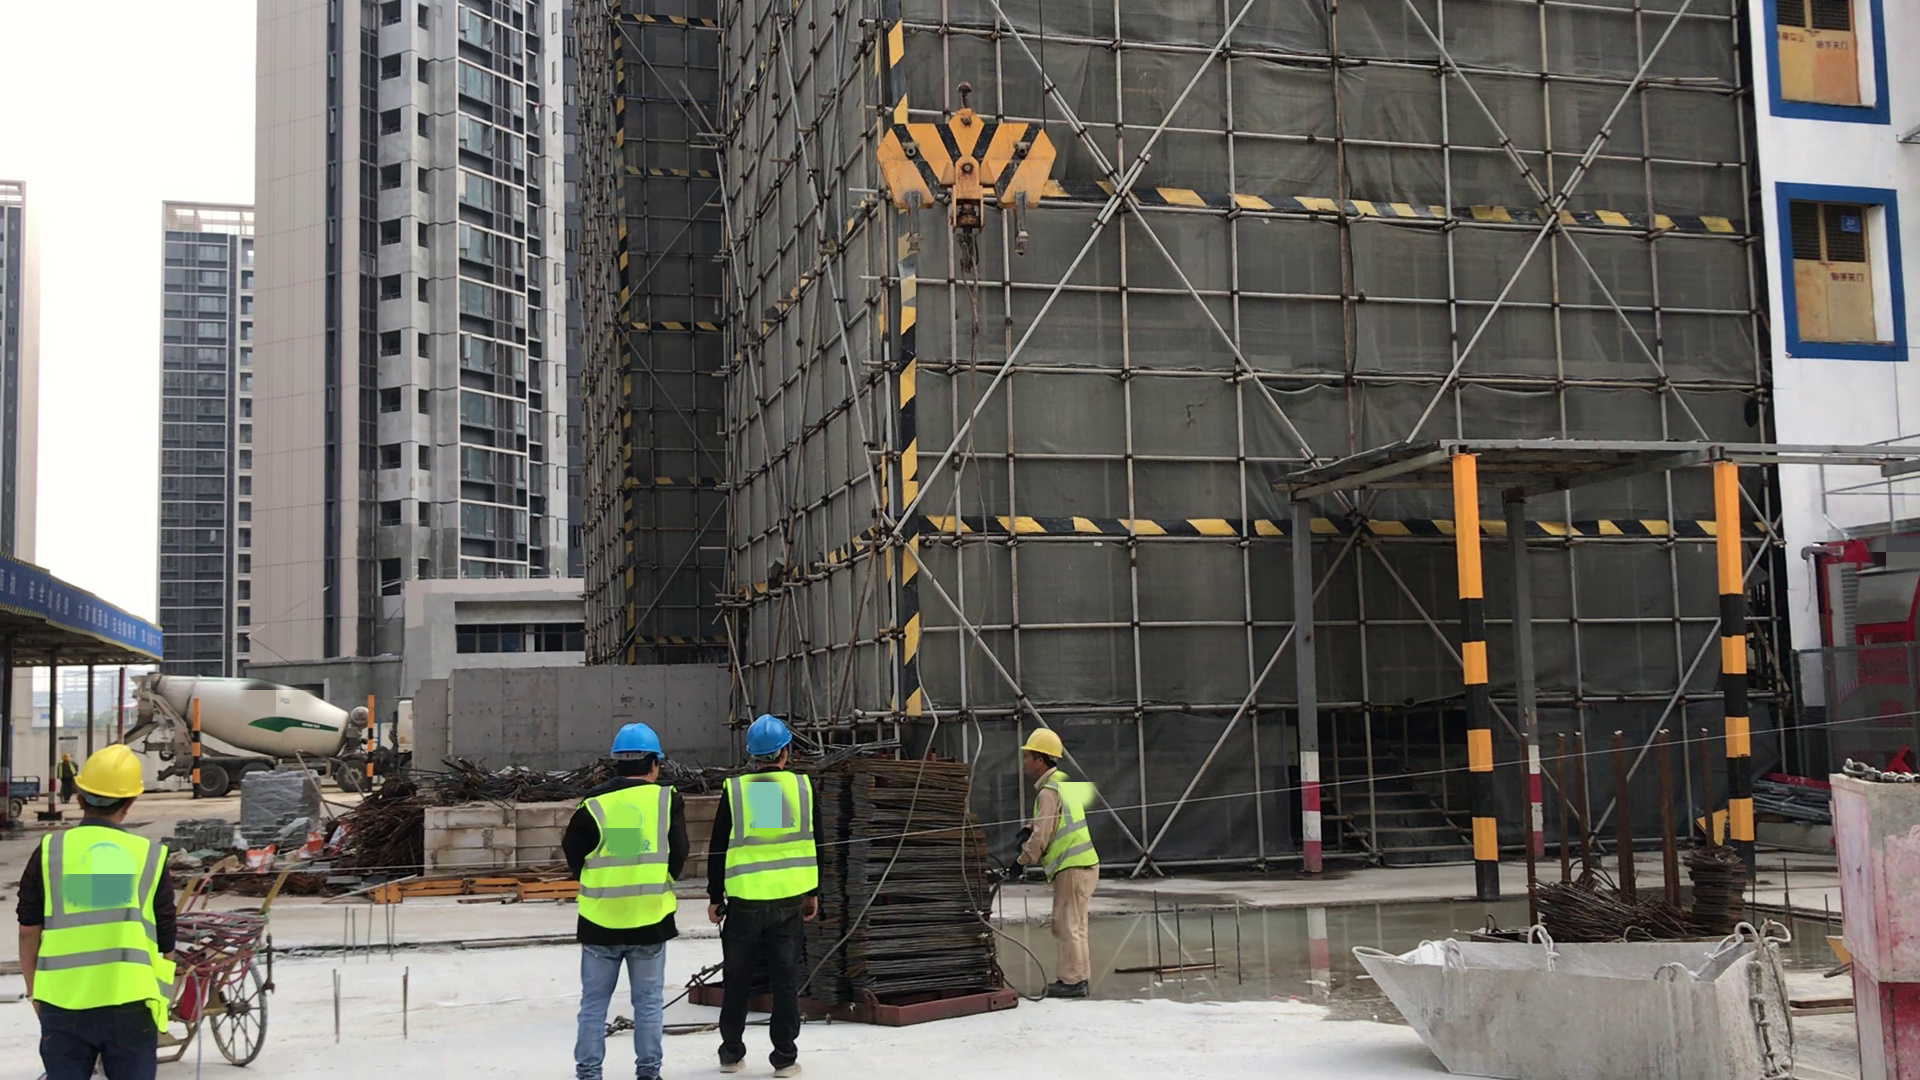helmet: (72, 745, 147, 803), (608, 723, 669, 767), (739, 715, 793, 757), (1021, 724, 1067, 764), (60, 752, 71, 761)
person: (21, 741, 183, 1080), (558, 722, 692, 1080), (707, 711, 823, 1078), (1008, 724, 1101, 1000), (57, 752, 78, 804)
vest: (33, 823, 182, 1039), (569, 780, 688, 937), (719, 769, 822, 901), (1026, 776, 1101, 878)
